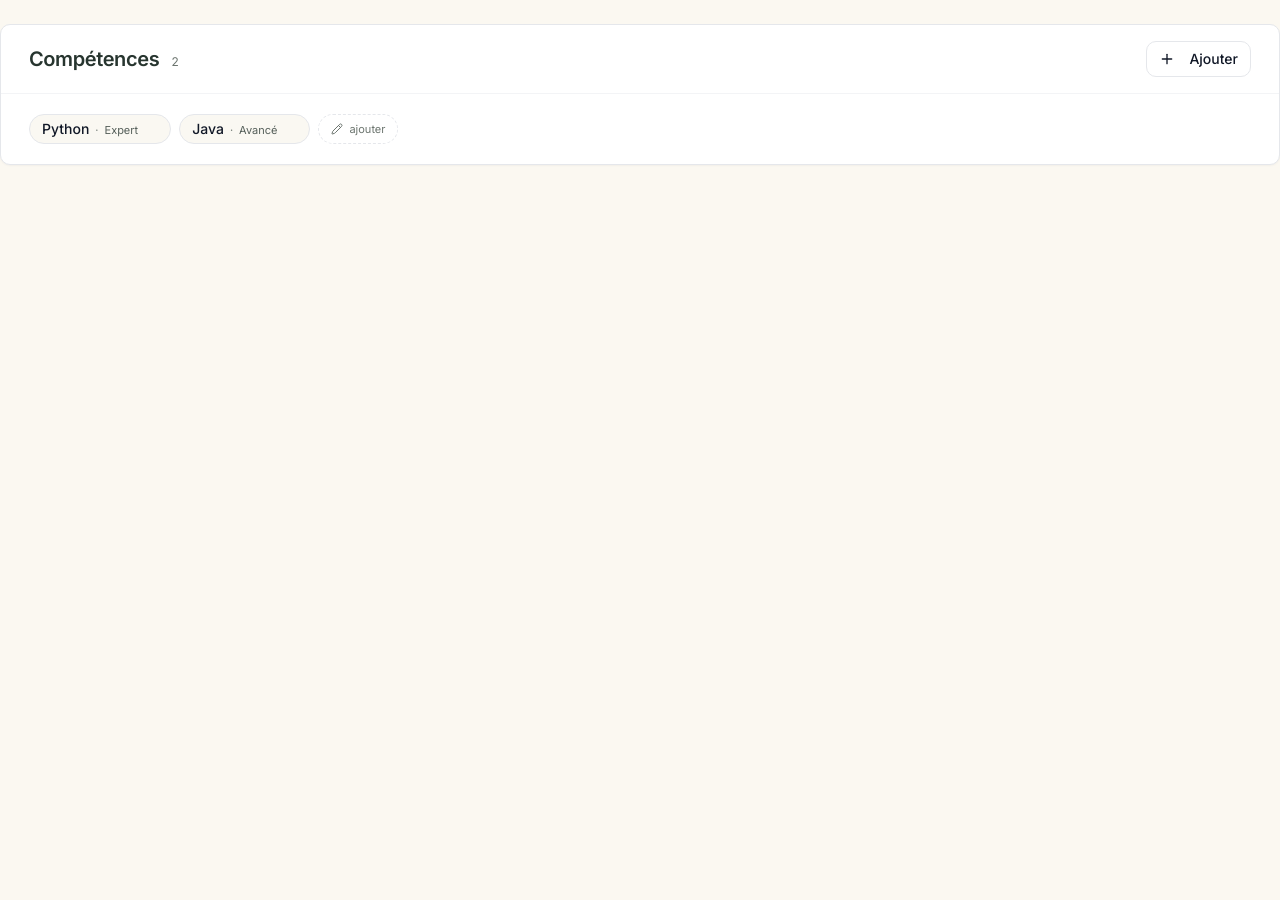
it: CompetenceSection › ouvre le form au click Ajouter
Header button (texte exact 'Ajouter'), pas le chip "ajouter une compétence" en fin de liste
Click the button "Ajouter" at (1199,59), box [1146, 41, 1251, 77]
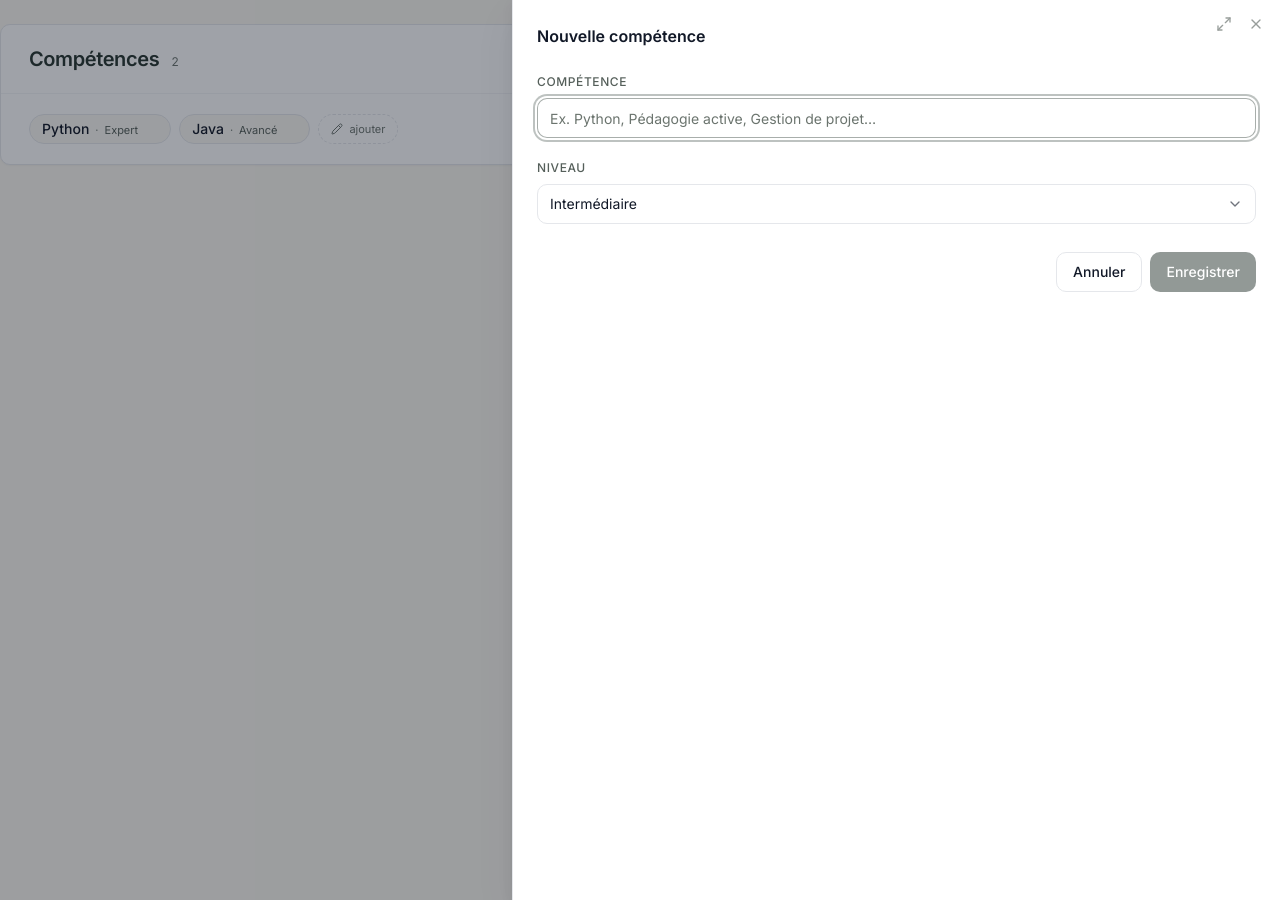
Result: the heading "Nouvelle compétence" is shown at [537, 26, 706, 46]
